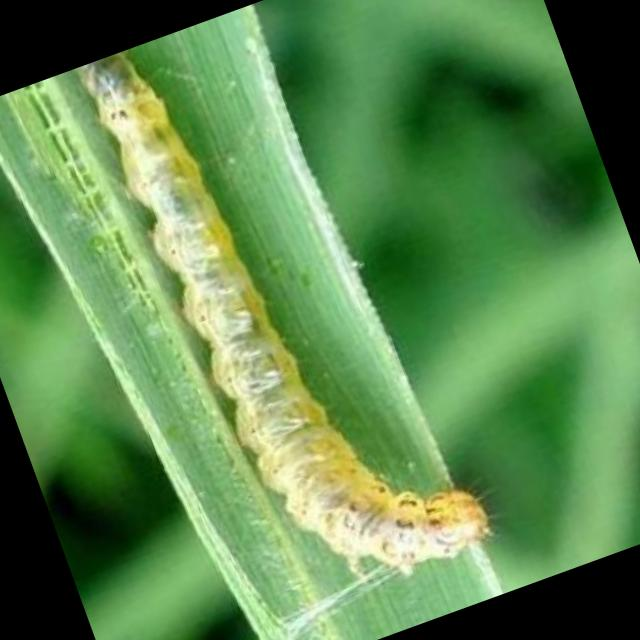leaf-folder: (12, 0, 541, 640)
